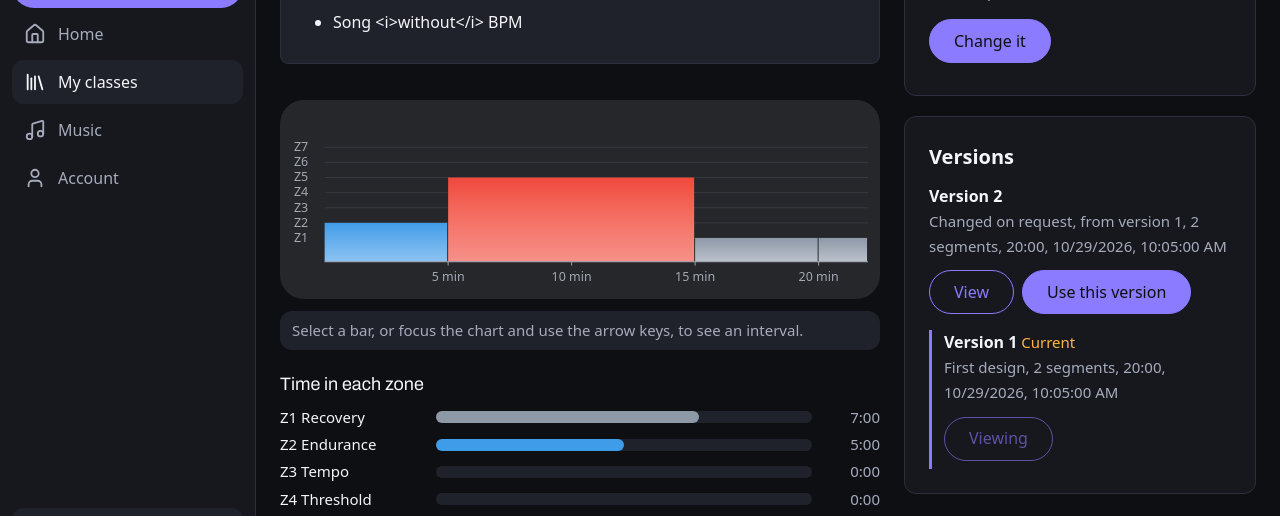
the class page › lists two versions with the current one marked, and views the other
(page scrolled)
Expected: the text "Version 2" is shown, [929, 184, 1231, 322]
Expected: the text "Changed on request, from version 1" is shown, [929, 184, 1231, 322]
Click the button with aria-label "View version 2" at (972, 292), box [929, 270, 1014, 314]
(page scrolled)
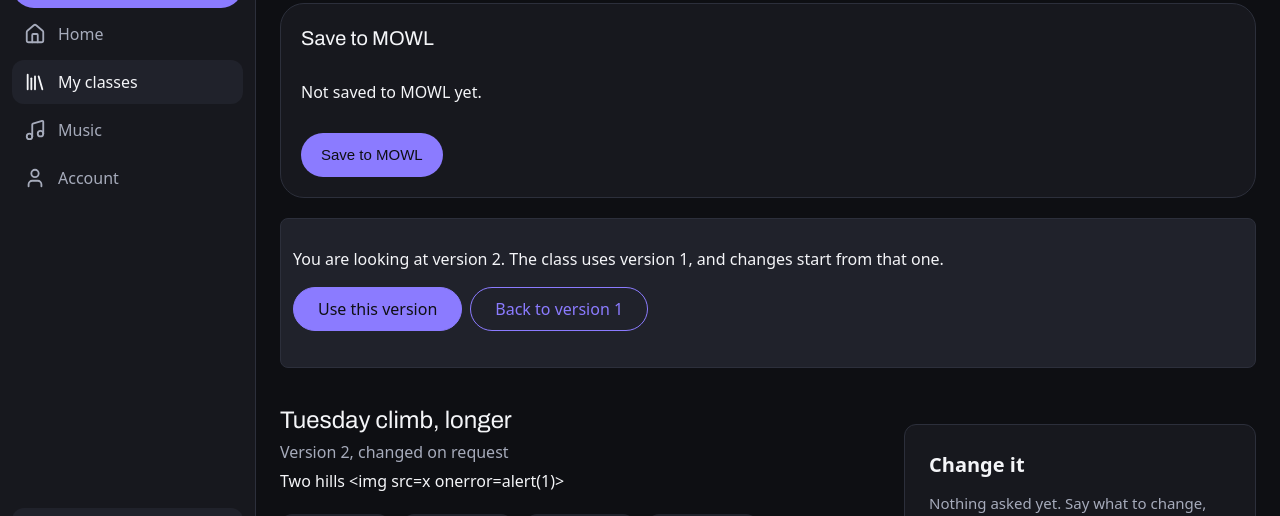
Expected: the heading "Tuesday climb, longer" is shown, [280, 407, 512, 433]
Expected: the message with test id "not-current" shows "You are looking at version 2", [280, 218, 1256, 368]
